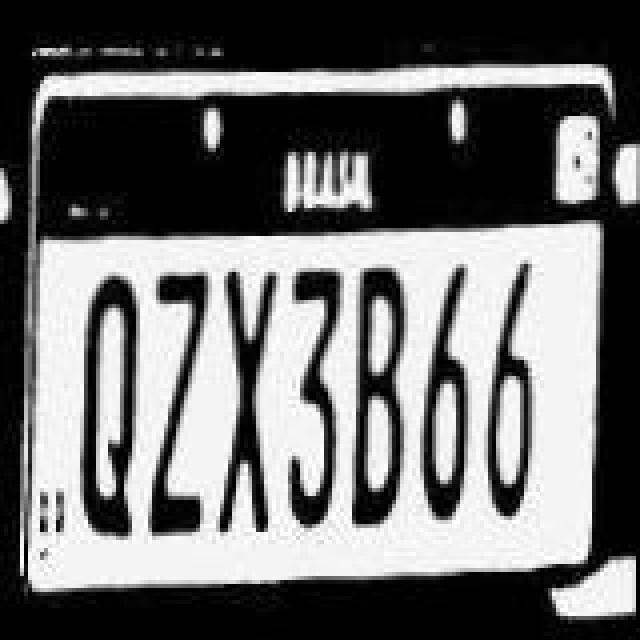3: (286, 264, 342, 528)
6: (476, 258, 536, 522), (418, 258, 474, 522)
B: (348, 262, 408, 530)
Q: (78, 270, 142, 542)
X: (214, 264, 278, 540)
Z: (146, 268, 210, 544)
